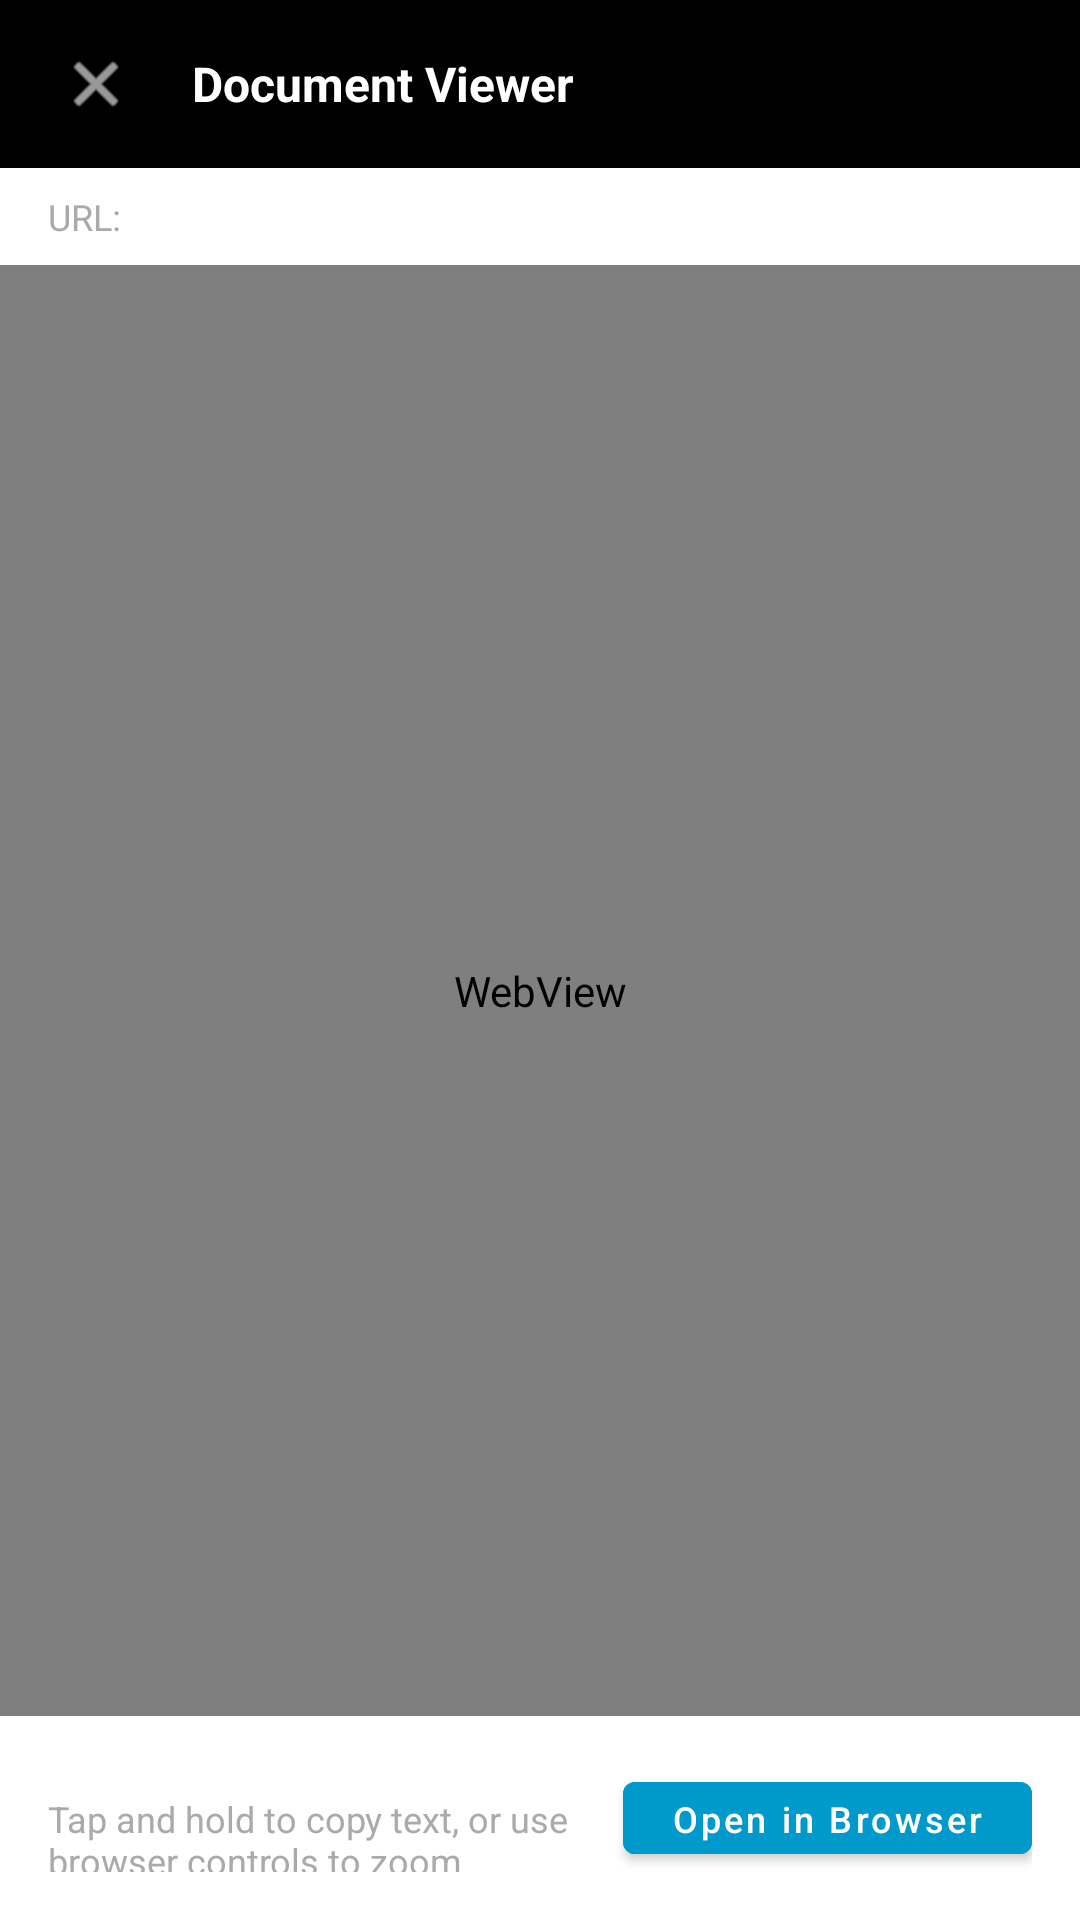

Icon click points for this 1080 x 1920 phone screenshot, format (x,y):
Close document: (96,84)
